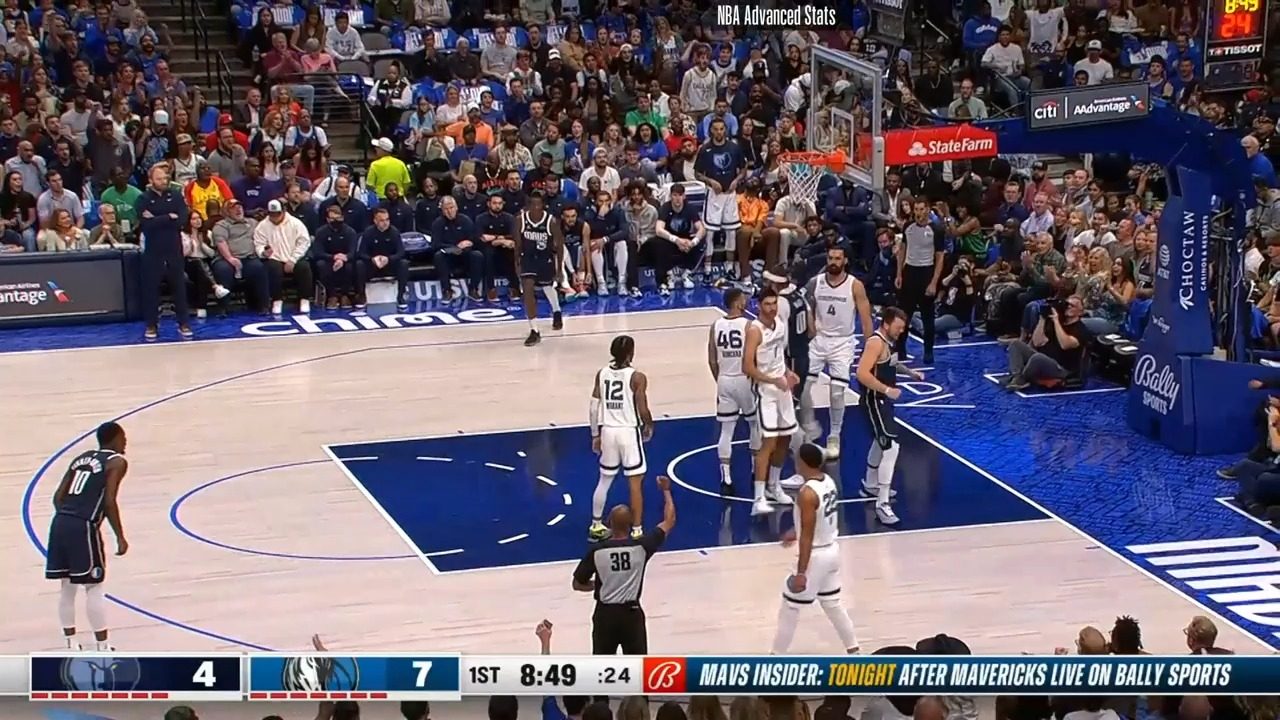net: (778, 143, 849, 213)
player: (45, 419, 149, 650), (767, 440, 864, 652), (786, 245, 878, 462), (835, 314, 915, 527), (583, 330, 656, 534), (735, 292, 795, 518), (510, 188, 568, 360), (708, 283, 755, 484)
referee: (575, 473, 677, 656), (886, 204, 944, 374)
